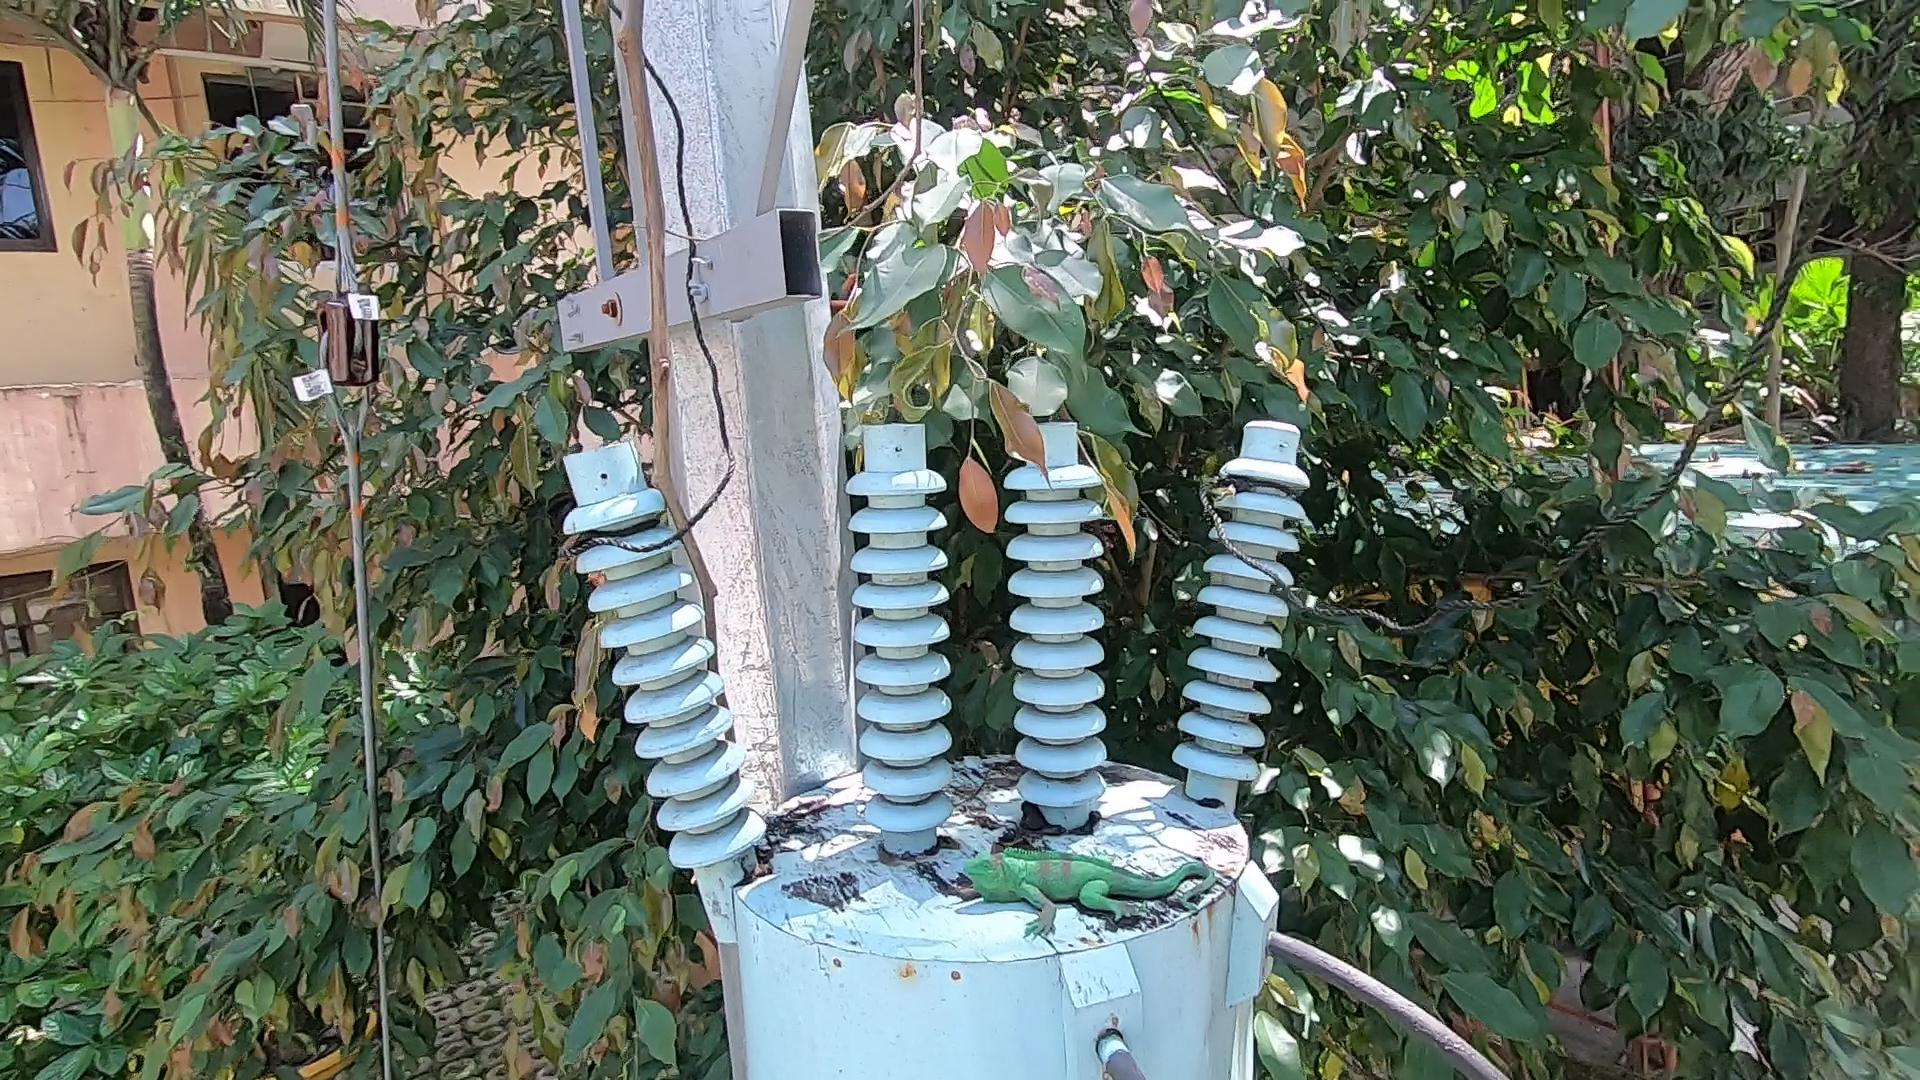branch with leaves: (916, 324, 1176, 562)
leaf: (1007, 802, 1056, 843), (928, 868, 969, 910), (735, 851, 777, 889)
tree branch: (572, 3, 770, 728)
